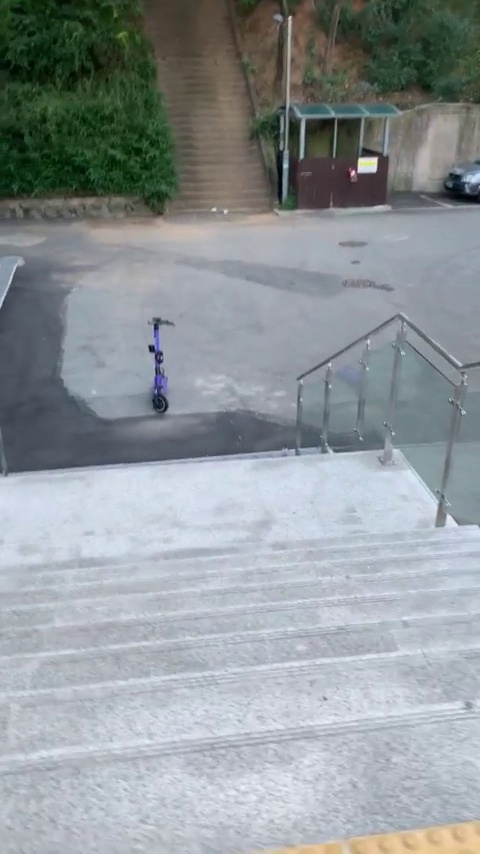beam: (140, 306, 180, 422)
